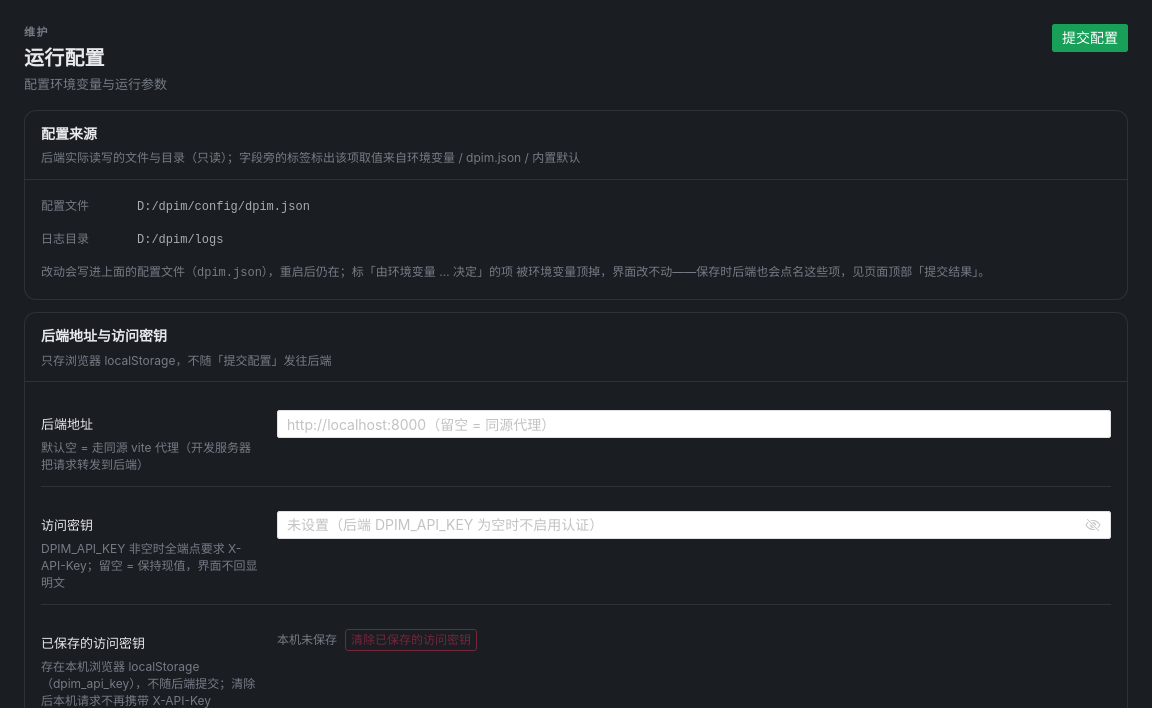
Test: SettingsPage（运行配置） › ignored_by_env 在页面顶部点名「由环境变量锁定、本次未生效」
Click the button "提交配置" at (1090, 38), box left=1052, top=24, right=1128, bottom=52
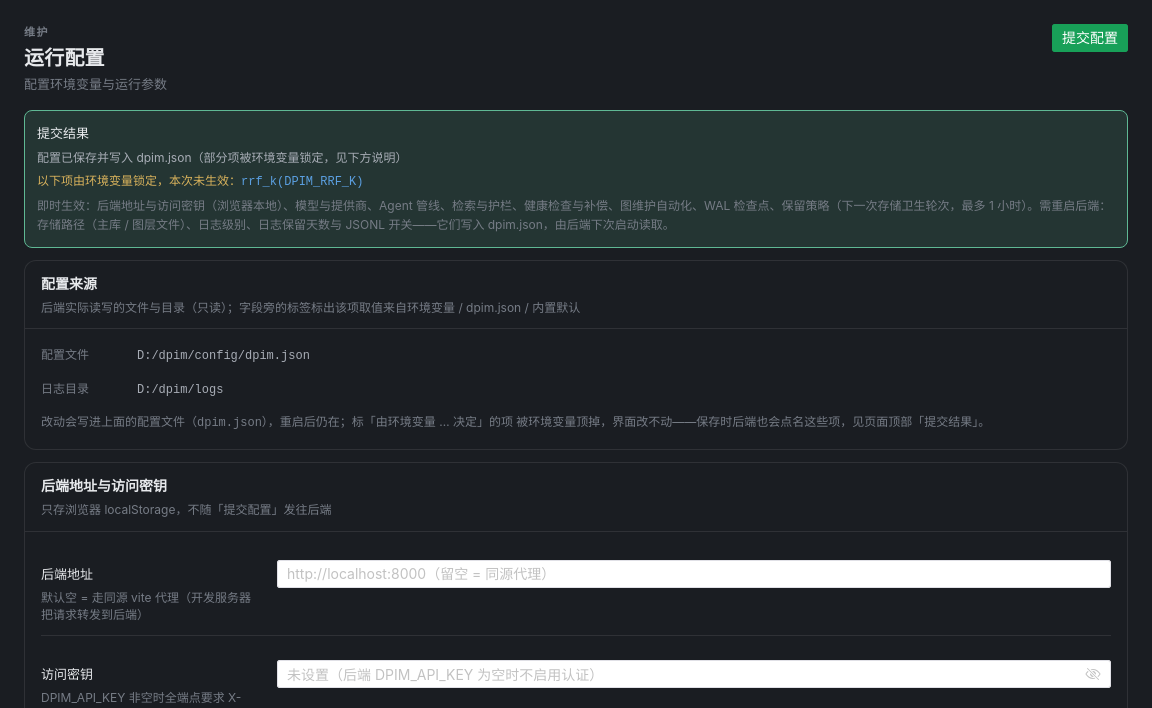
Now the element with class "banner--ok" is shown, box left=24, top=110, right=1128, bottom=248
Now the element with class "banner-locked" is shown, box left=37, top=173, right=363, bottom=189
Now the element with class "banner-locked" shows "以下项由环境变量锁定，本次未生效：", box left=37, top=173, right=241, bottom=188
